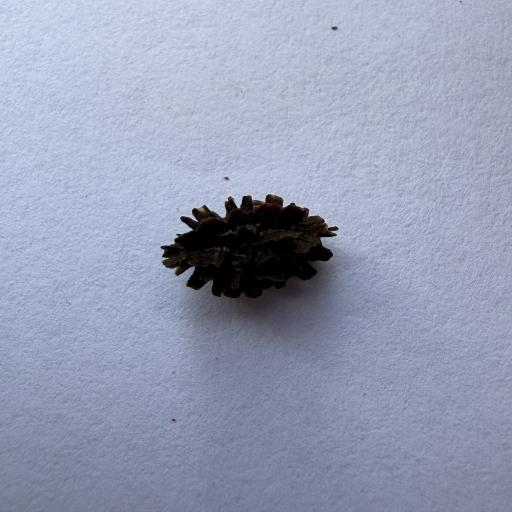papaya_seed: (144, 188, 353, 310)
